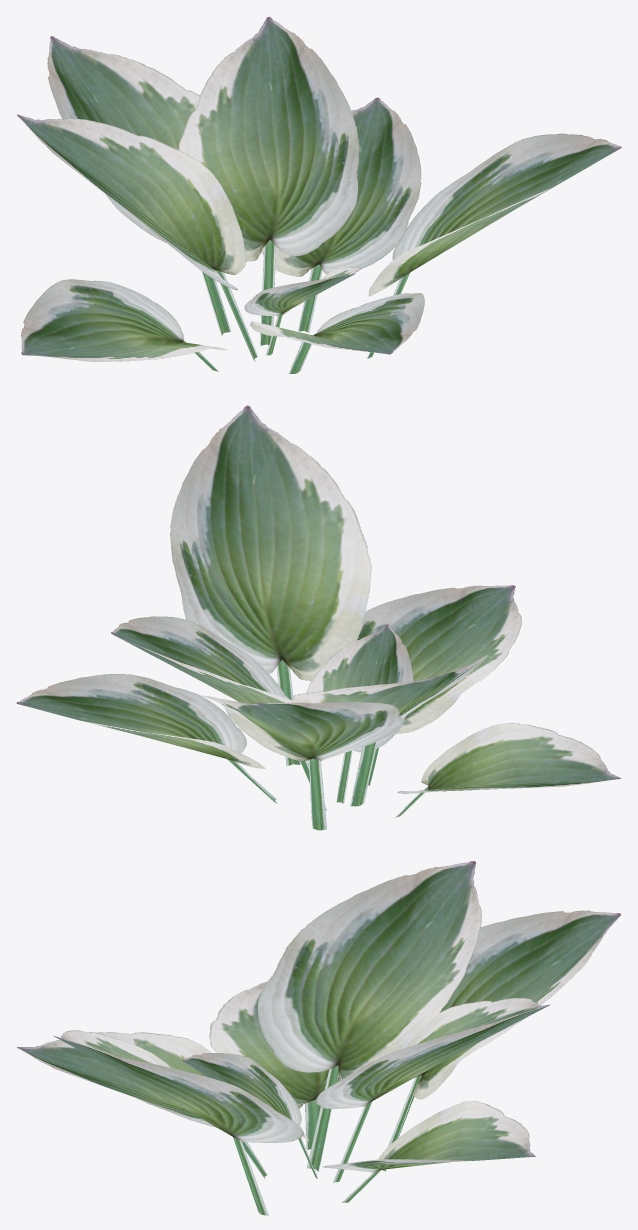
File: plant_small_wg_04Q.fbx
3 views of the same model, one above another, from view 1: azimuth 30°, elevation 25°; view 2: azimuth 150°, elevation 25°; view 3: azimuth 270°, elevation 25° (orthographic).
Parts seen in each view (by area): view 1: plant_small_wg_04Q; view 2: plant_small_wg_04Q; view 3: plant_small_wg_04Q.
Part boxes in pixels (bbox=[...]): plant_small_wg_04Q: bbox=[17, 16, 621, 373]; plant_small_wg_04Q: bbox=[16, 405, 620, 830]; plant_small_wg_04Q: bbox=[17, 861, 620, 1215].
Bounding box in the file's own units: 130 × 62.02 × 135.
